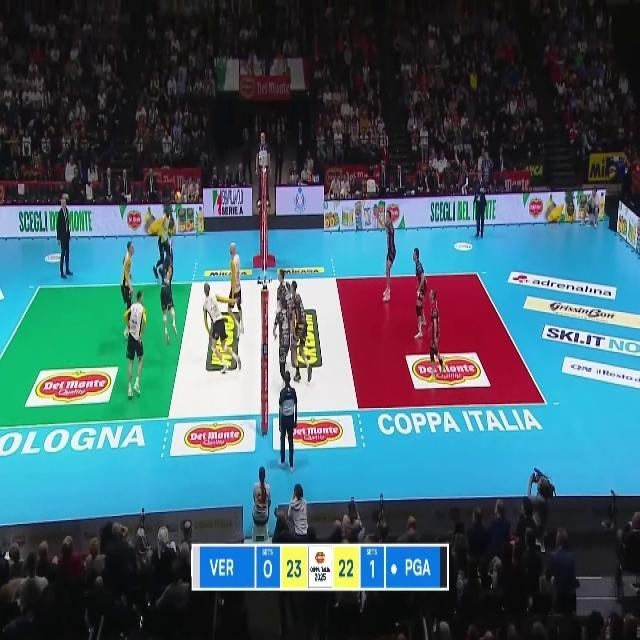volleyball court: (1, 274, 551, 430)
